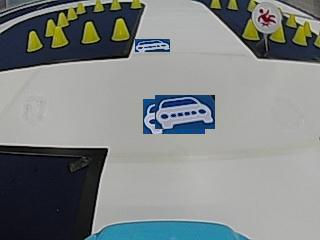cone: (81, 21, 99, 44), (111, 17, 128, 41), (242, 19, 259, 40), (26, 30, 41, 51), (51, 27, 66, 47), (293, 25, 306, 45), (271, 26, 285, 43), (56, 12, 67, 27), (45, 18, 54, 36), (286, 13, 296, 27), (93, 0, 104, 12), (67, 7, 76, 21), (76, 2, 86, 14), (227, 0, 238, 10), (110, 0, 121, 10), (131, 0, 141, 9)
tumble: (252, 6, 279, 29)
